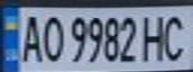2: (118, 12, 142, 64)
8: (103, 12, 124, 64)
9: (63, 12, 87, 63), (84, 12, 106, 63)
A: (15, 10, 45, 63)
C: (160, 10, 193, 62)
H: (139, 11, 172, 62)
O: (39, 11, 66, 63)
